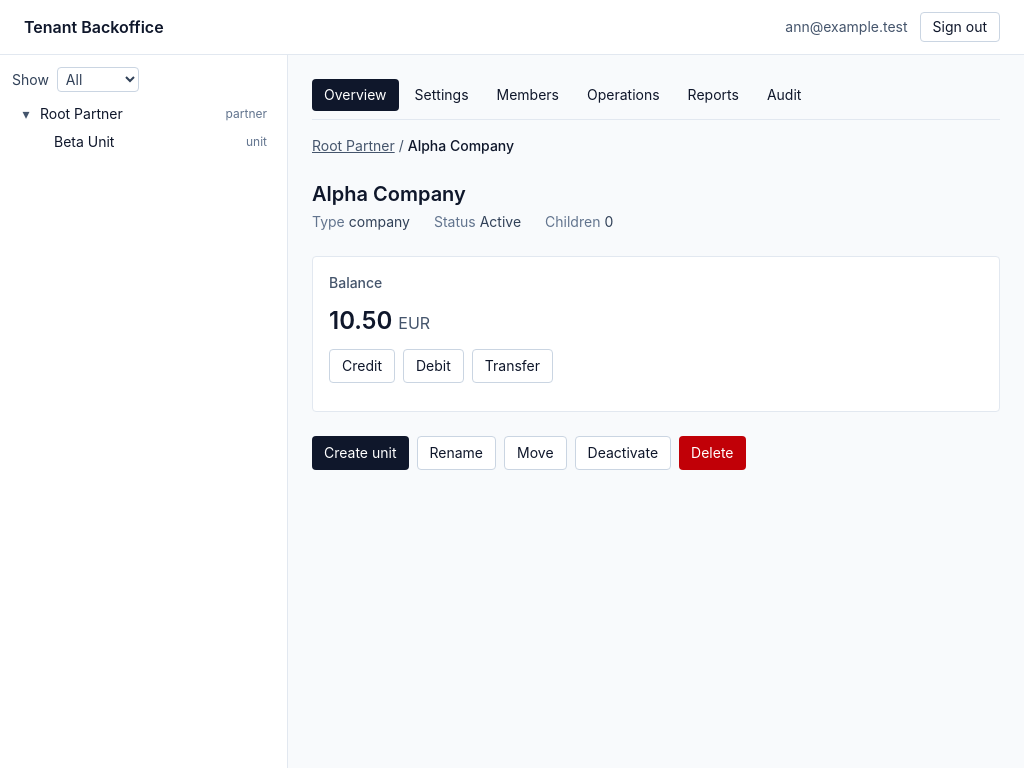
it: node card › a name conflict is shown with the text of its code
Click the button "Rename" at {"x": 456, "y": 453}, box [416,436,496,470]
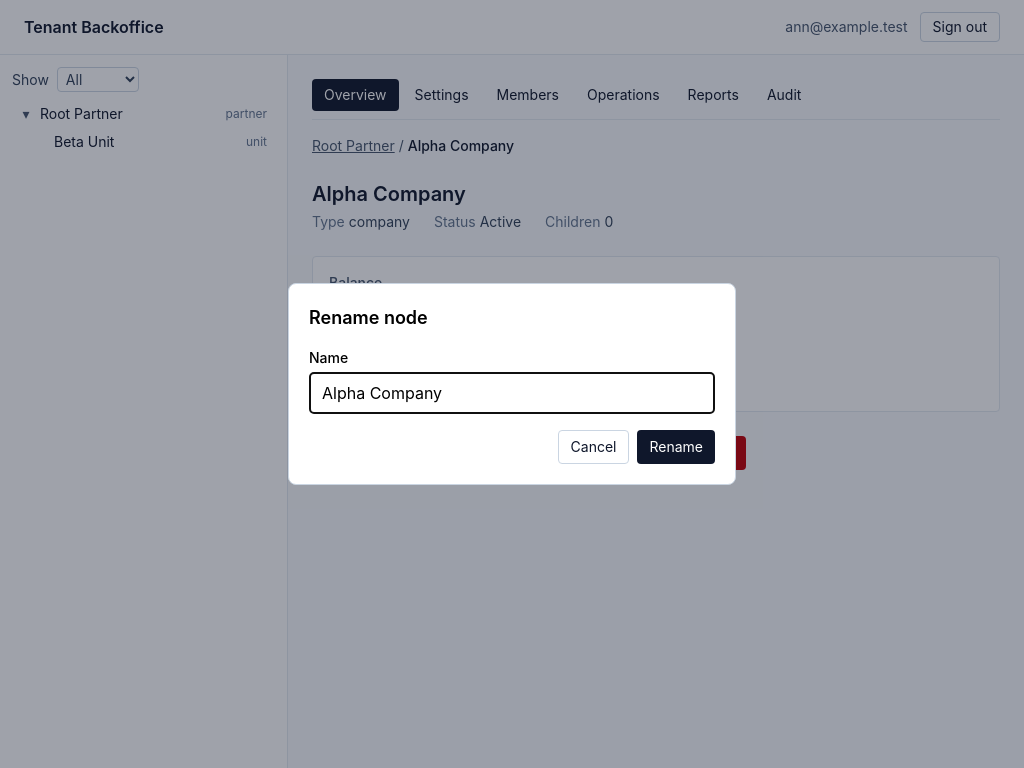
Result: the field labelled "Name" is shown at [309,372,715,414]
Click the submit button at {"x": 676, "y": 447}, box [638,430,715,464]
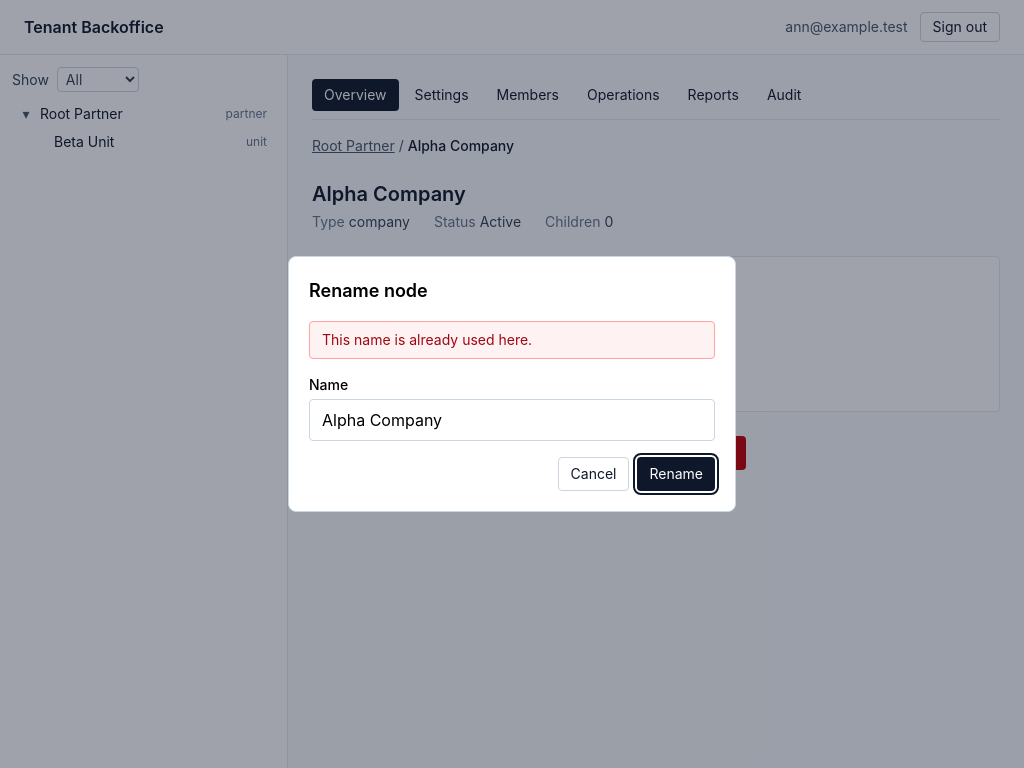
Result: the message reads "This name is already used here." at [322,331,532,348]
